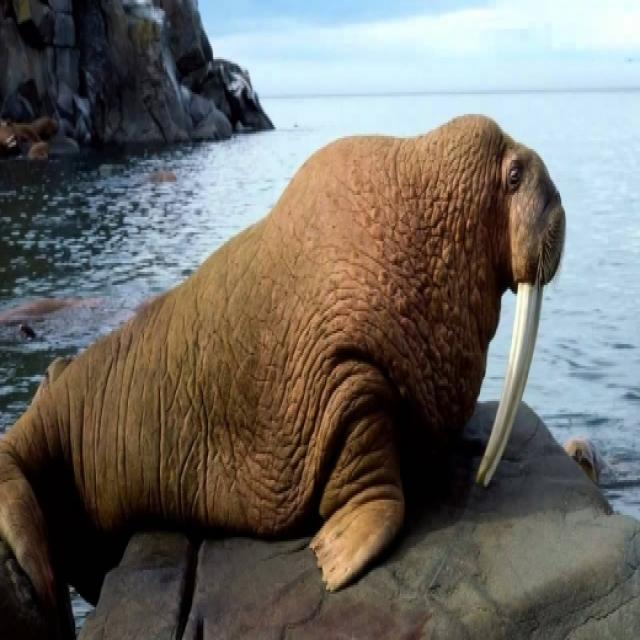walrus: (20, 106, 583, 604)
